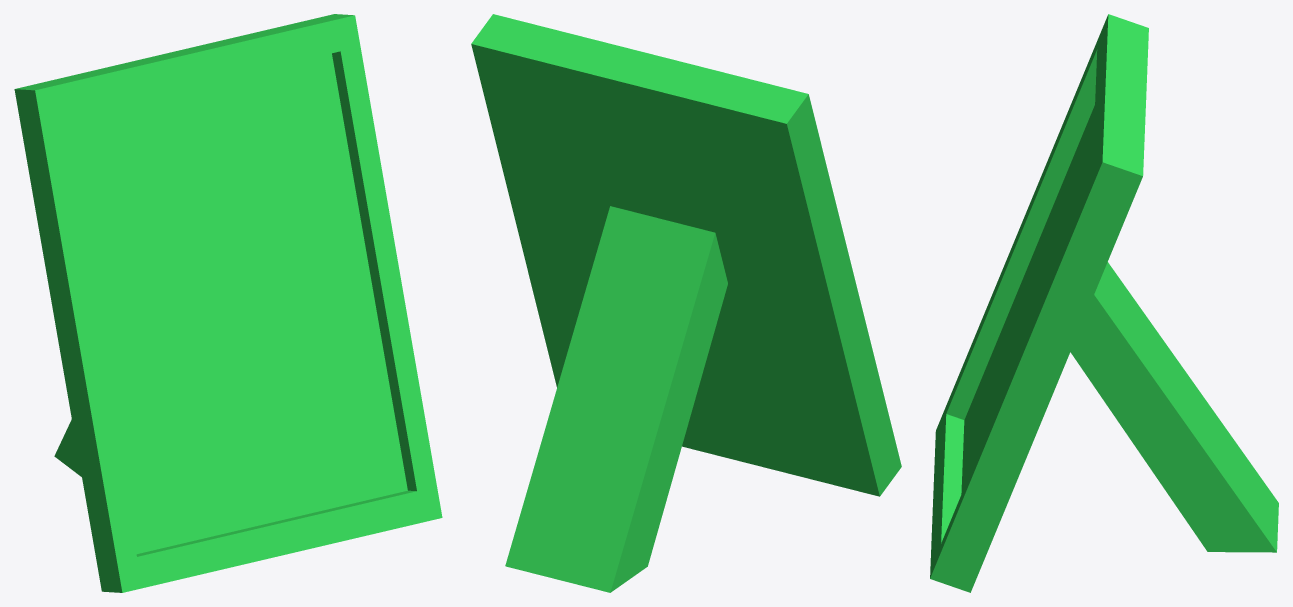
Rendered from Picture_Frame.fbx.
3 views of the same model, side by side, from view 1: azimuth 30°, elevation 25°; view 2: azimuth 150°, elevation 25°; view 3: azimuth 270°, elevation 25° (orthographic). The views are drawn at different scales.
Visible parts, largest first — view 1: Cube.116; view 2: Cube.116; view 3: Cube.116.
Part boxes in pixels (<box>): Cube.116: <box>14,14,442,592</box>; Cube.116: <box>471,14,901,592</box>; Cube.116: <box>930,14,1278,592</box>.
Size of the model in its own units: 25.4 by 34.68 by 25.01.
